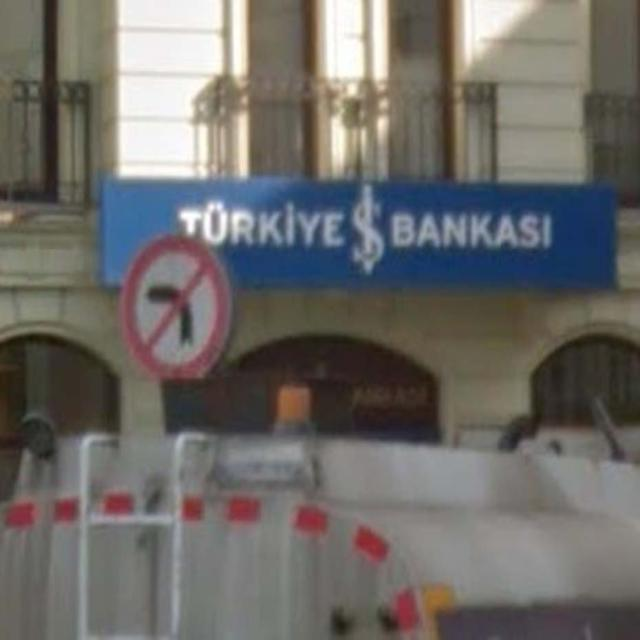soladonulmez: (121, 235, 233, 381)
